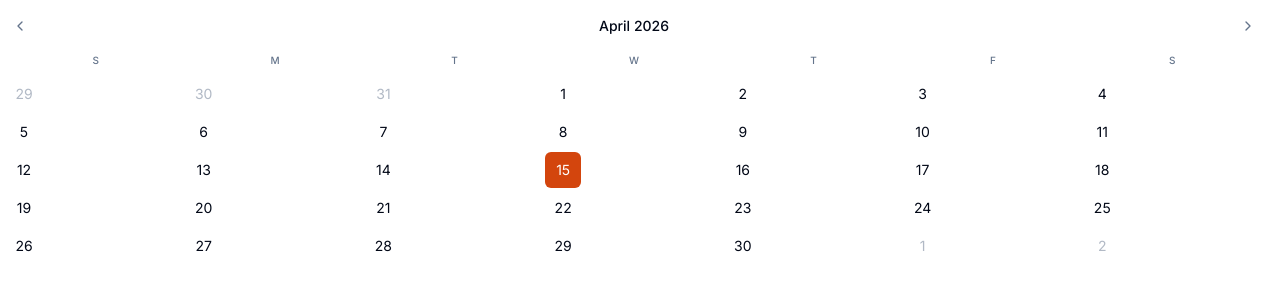
Calendar › advances to next month when the right chevron is clicked
Check: the text "April 2026" is shown, box [599,16,669,36]
Click the button named "Next month": point(1248, 26) [1234,12,1262,40]
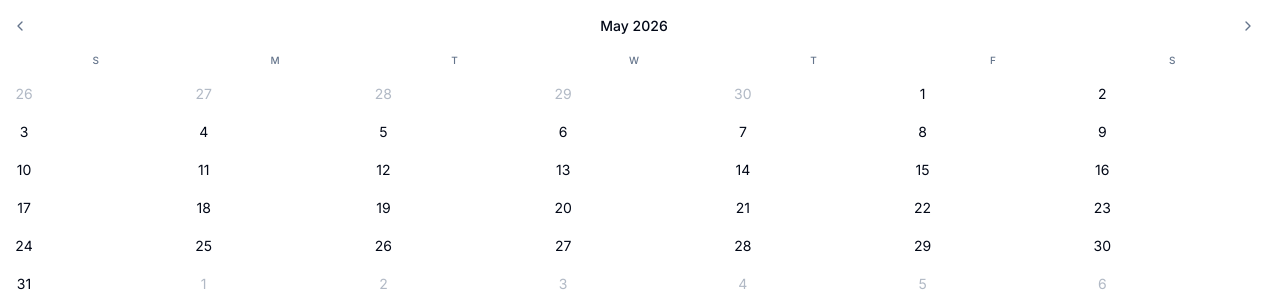
Check: the text "May 2026" is shown, box [600,16,668,36]
